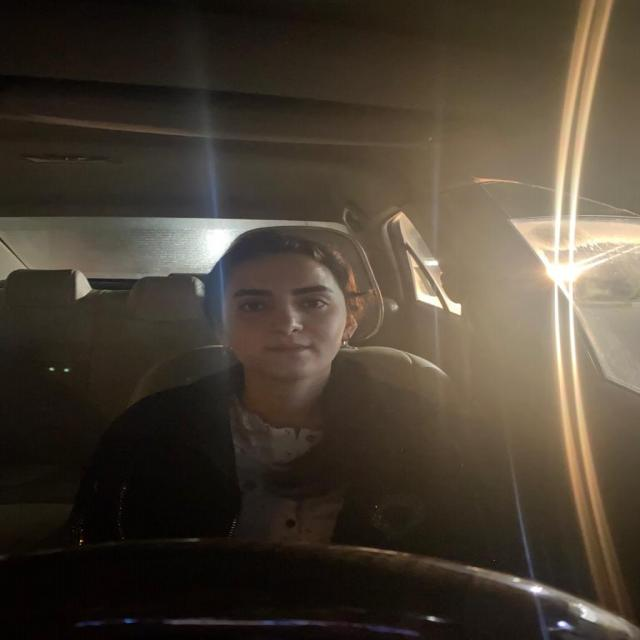person: (200, 232, 365, 391)
